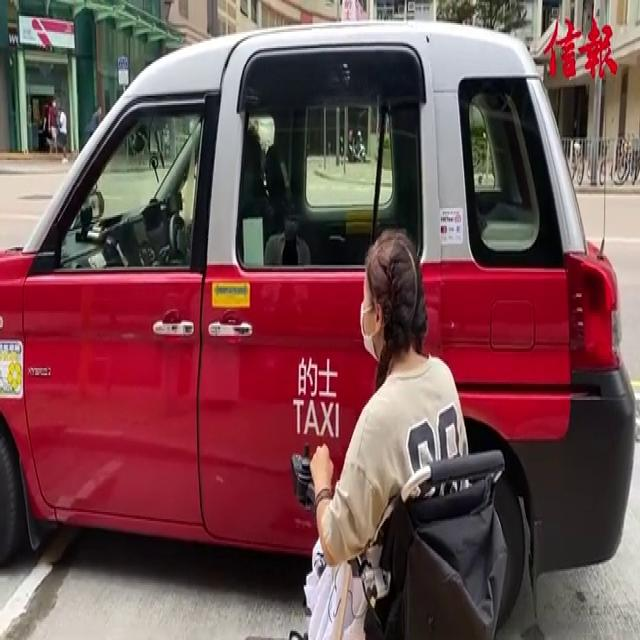wheelchairs: (283, 403, 539, 640)
